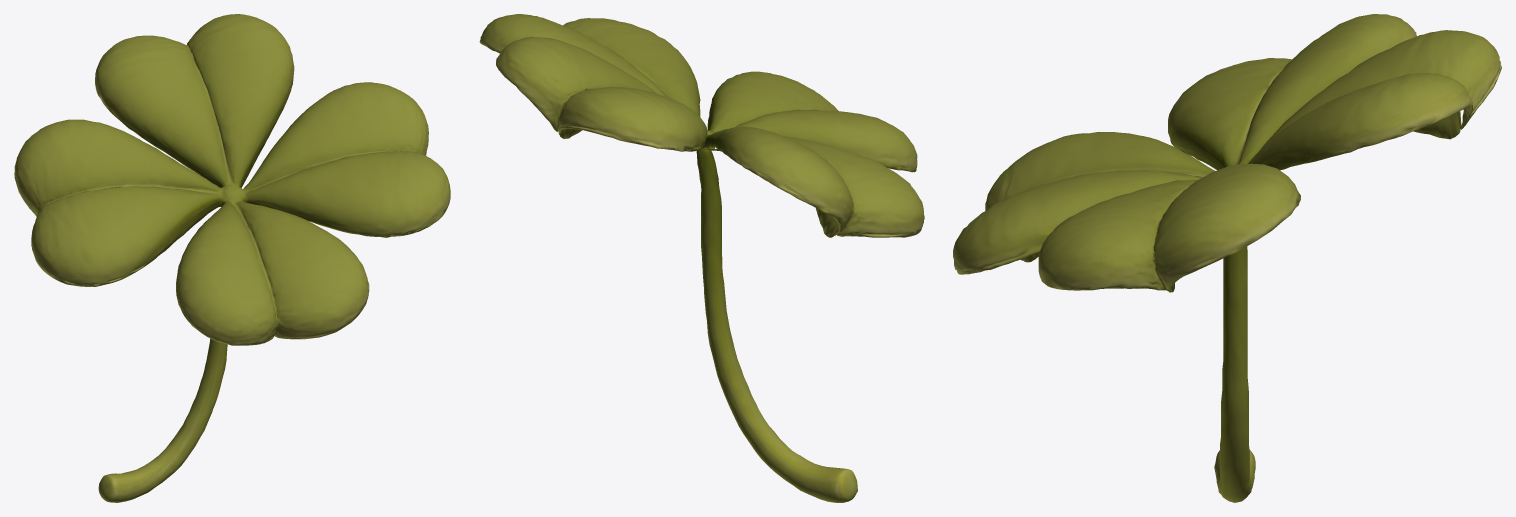
File: mem_ac_clover.fbx
3 views of the same model, side by side, from view 1: azimuth 30°, elevation 25°; view 2: azimuth 150°, elevation 25°; view 3: azimuth 270°, elevation 25° (orthographic). The views are drawn at different scales.
Parts seen in each view (by area): view 1: tripo_node_72dc64a3-cdd0-44ad-a5c1-9fed7c689681; view 2: tripo_node_72dc64a3-cdd0-44ad-a5c1-9fed7c689681; view 3: tripo_node_72dc64a3-cdd0-44ad-a5c1-9fed7c689681.
Boxes of the visible parts, x1,y1,x2,y2 form: tripo_node_72dc64a3-cdd0-44ad-a5c1-9fed7c689681: (14, 14, 450, 502); tripo_node_72dc64a3-cdd0-44ad-a5c1-9fed7c689681: (479, 14, 924, 502); tripo_node_72dc64a3-cdd0-44ad-a5c1-9fed7c689681: (953, 14, 1501, 502).
Bounding box in the file's own units: 0.998 × 0.9941 × 0.9277.
Materials: 1 (1 with a texture image).
